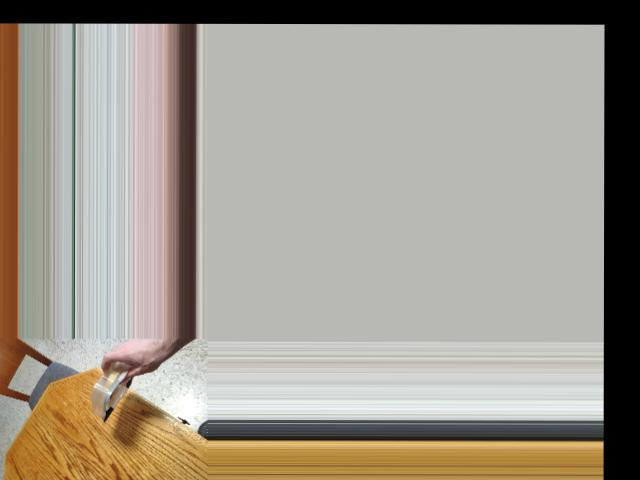cheese: (74, 347, 156, 408)
